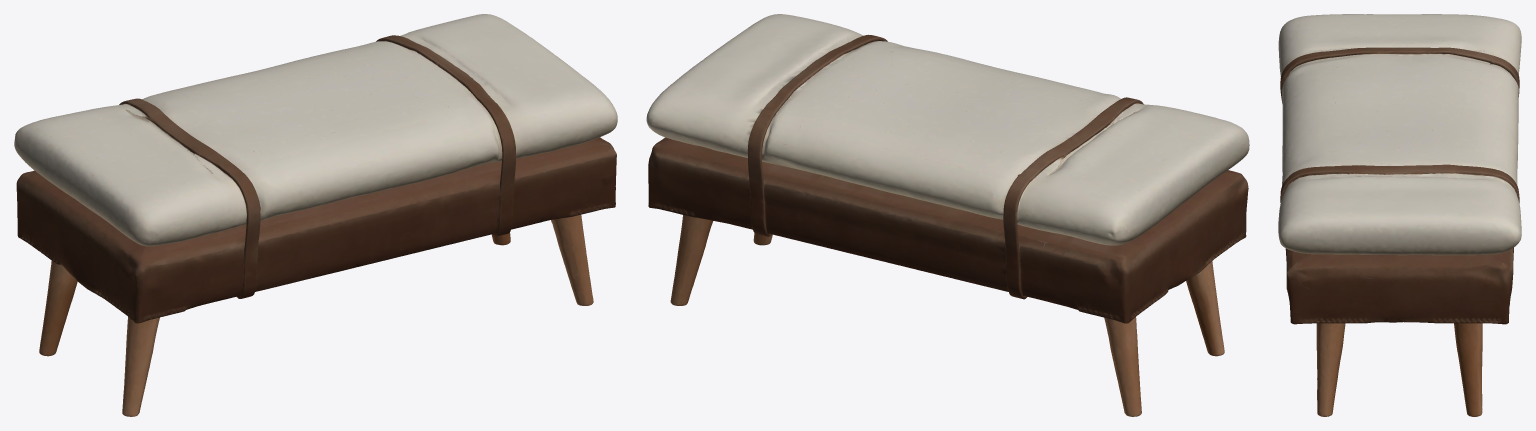
File: item-18.glb
3 renders of one model, left to right at view 1: azimuth 30°, elevation 25°; view 2: azimuth 150°, elevation 25°; view 3: azimuth 270°, elevation 25°, orthographic. The views are drawn at different scales.
Parts seen in each view (by area): view 1: geometry_0; view 2: geometry_0; view 3: geometry_0.
Boxes of the visible parts, <box> form: geometry_0: <box>14,14,617,416</box>; geometry_0: <box>646,14,1249,416</box>; geometry_0: <box>1278,14,1521,416</box>.
Bounding box in the file's own units: 0.9941 × 0.4493 × 0.4796.
1 material, 1 textured.
